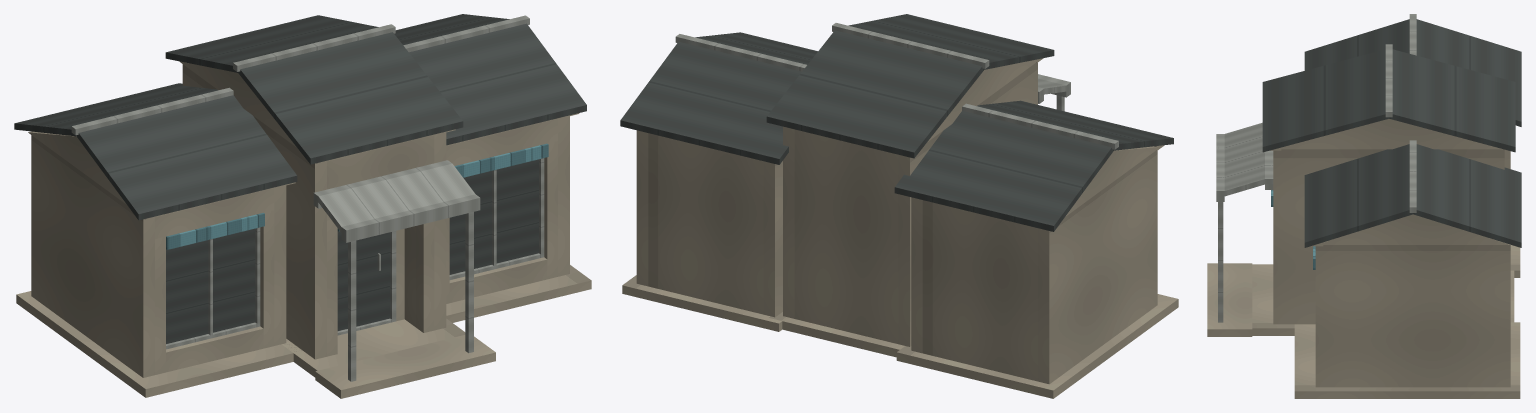
Rendered from philipsburg.glb.
3 views of the same model, side by side, from view 1: azimuth 30°, elevation 25°; view 2: azimuth 150°, elevation 25°; view 3: azimuth 270°, elevation 25° (orthographic). The views are drawn at different scales.
Visible parts, largest first — view 1: philipsburg; view 2: philipsburg; view 3: philipsburg.
Boxes of the visible parts, x1,y1,x2,y2 form: philipsburg: (14, 14, 591, 398); philipsburg: (620, 14, 1178, 398); philipsburg: (1207, 14, 1521, 398).
Bounding box in the file's own units: 6.79 × 3.7 × 4.66.
1 material, 1 textured.
